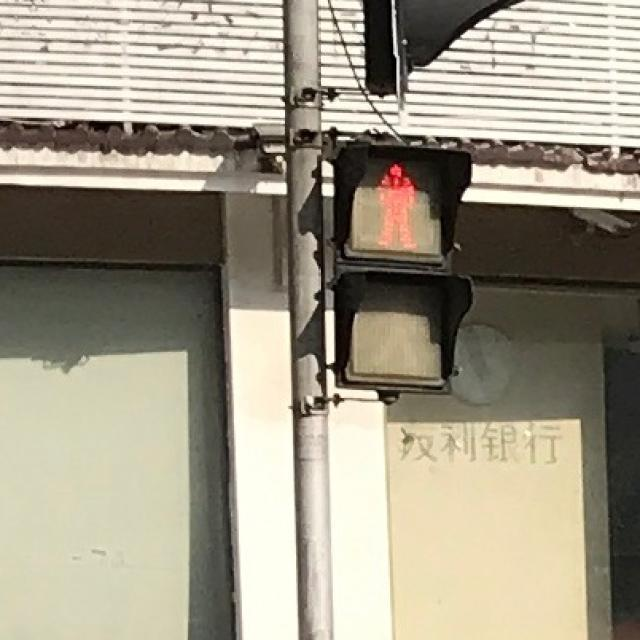red-crossing: (352, 146, 438, 258)
